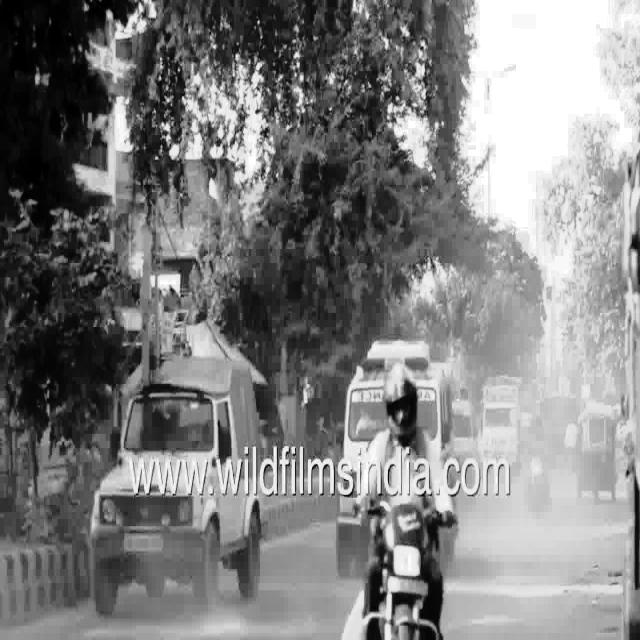Ambulance: (342, 340, 448, 487)
